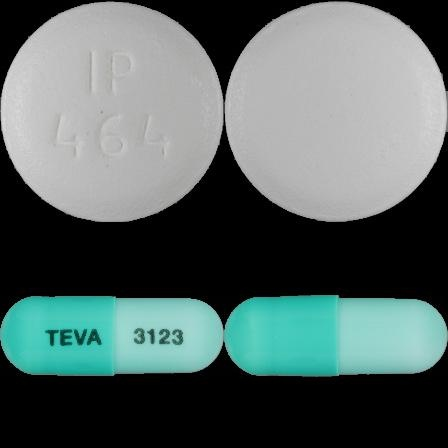55289-590: (0, 0, 224, 224)
